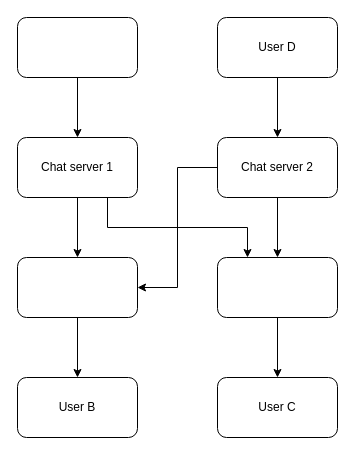
Image size: 355x455. Some labels were removed from this diagram. Each missing label, with the box of its shape:
User A: (16, 16, 138, 78)
User B message queue: (16, 256, 138, 318)
User C message queue: (216, 256, 338, 318)
